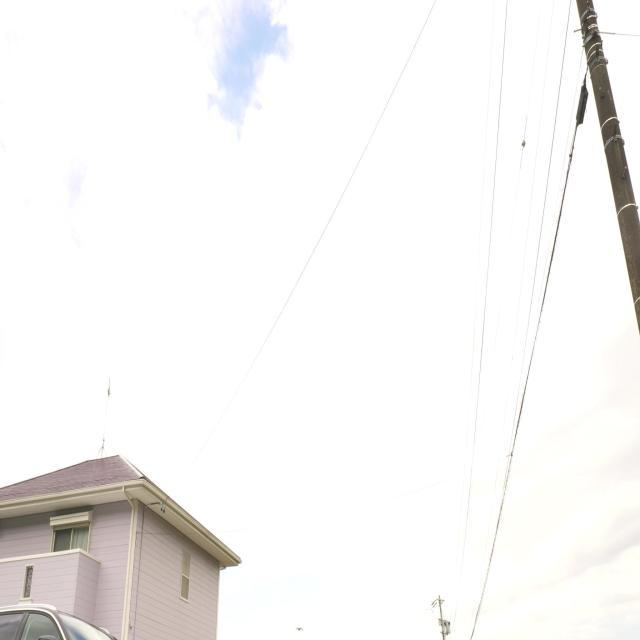Birds: (292, 620, 310, 640)
